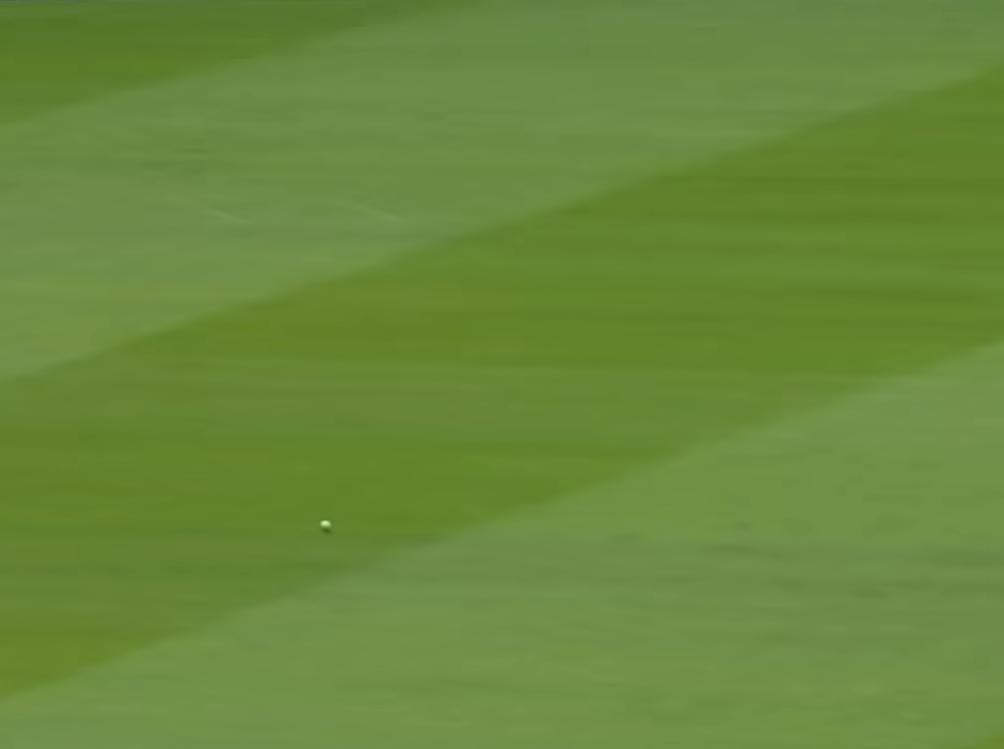Cricket-Ball: (312, 512, 340, 541)
